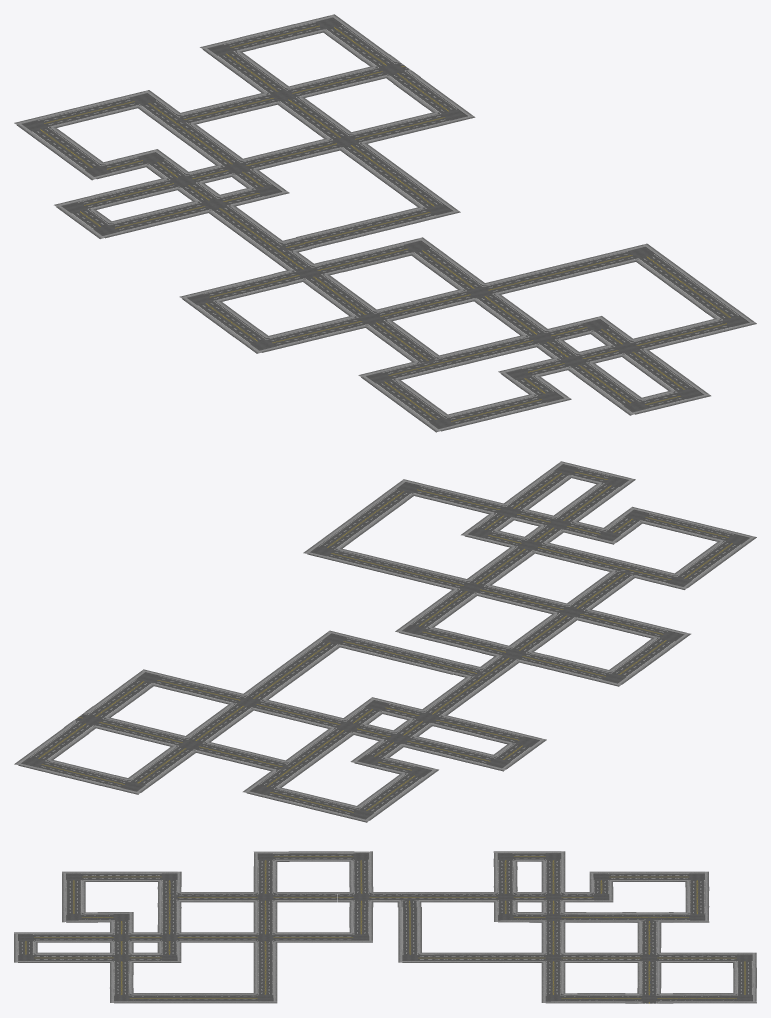
File: Road.fbx
The picture shows the model from 3 angles, top to bottom: view 1: azimuth 30°, elevation 25°; view 2: azimuth 150°, elevation 25°; view 3: azimuth 270°, elevation 25°; orthographic projection. The views are drawn at different scales.
Parts seen in each view (by area): view 1: Road; view 2: Road; view 3: Road.
Boxes of the visible parts, box(x1,y1,x2,y2) form: Road: box(14, 14, 756, 432); Road: box(14, 461, 756, 822); Road: box(14, 851, 756, 1003).
Size of the model in its own units: 224 by 0.2603 by 464.
